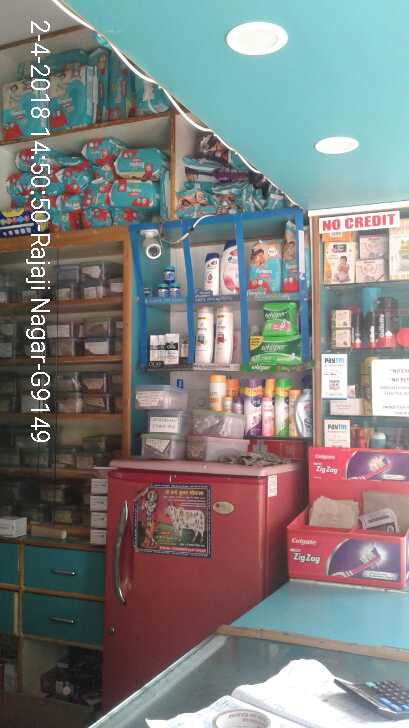vicks: (157, 264, 180, 294)
